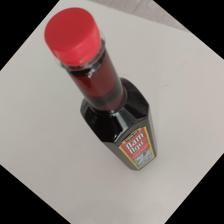Namngu: (42, 8, 159, 173)
